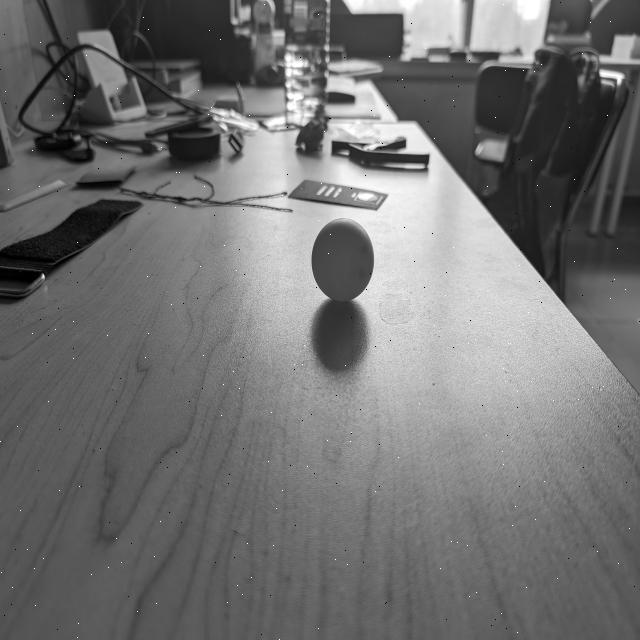ping-pong-ball: (310, 215, 374, 302)
